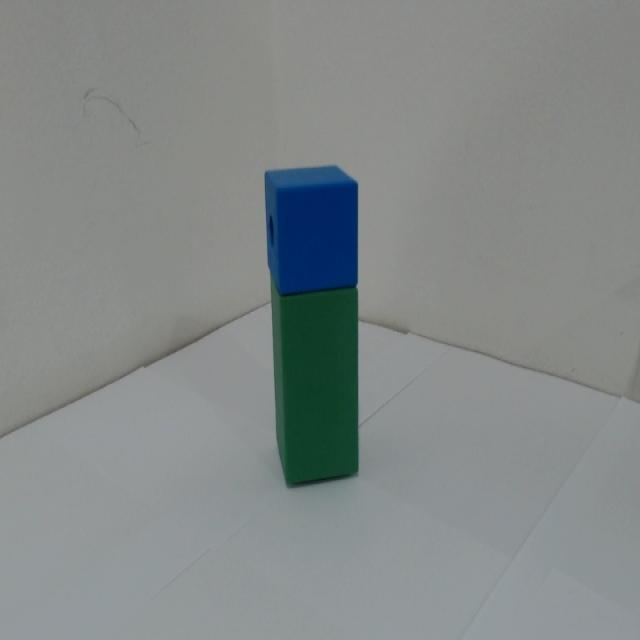cube: (245, 137, 383, 302)
